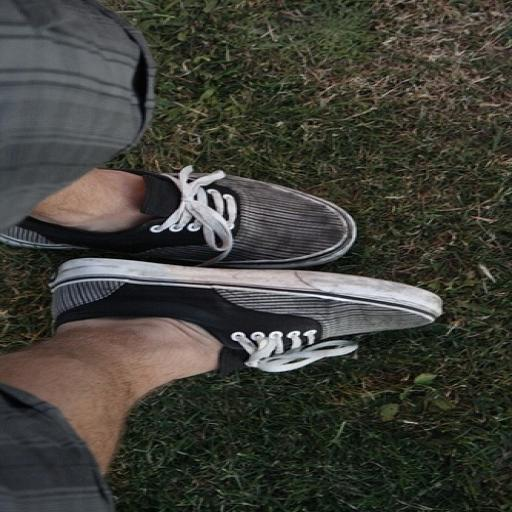shoe: (51, 258, 441, 373), (0, 166, 357, 268)
